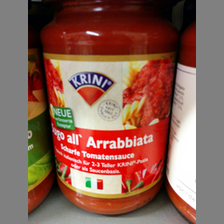tomato_sauce: (38, 1, 177, 217)
